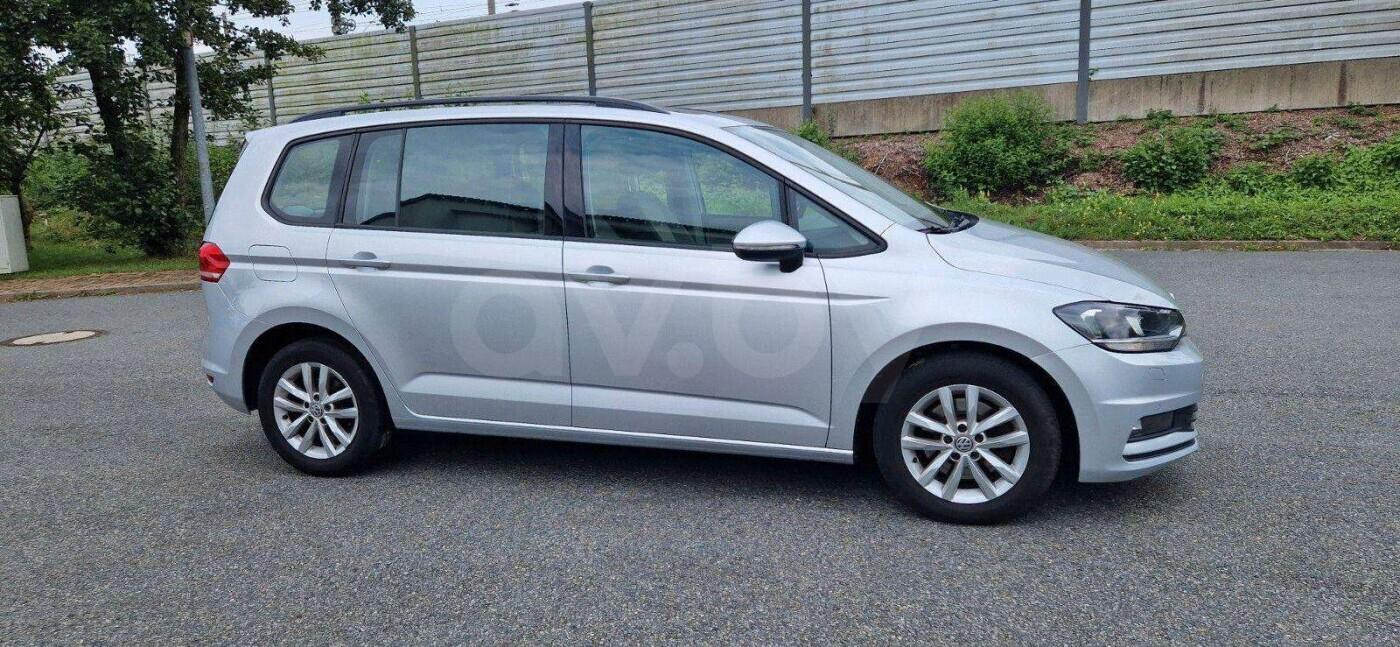Touran_2015: (192, 96, 1201, 527)
